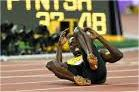down: (43, 19, 126, 88)
